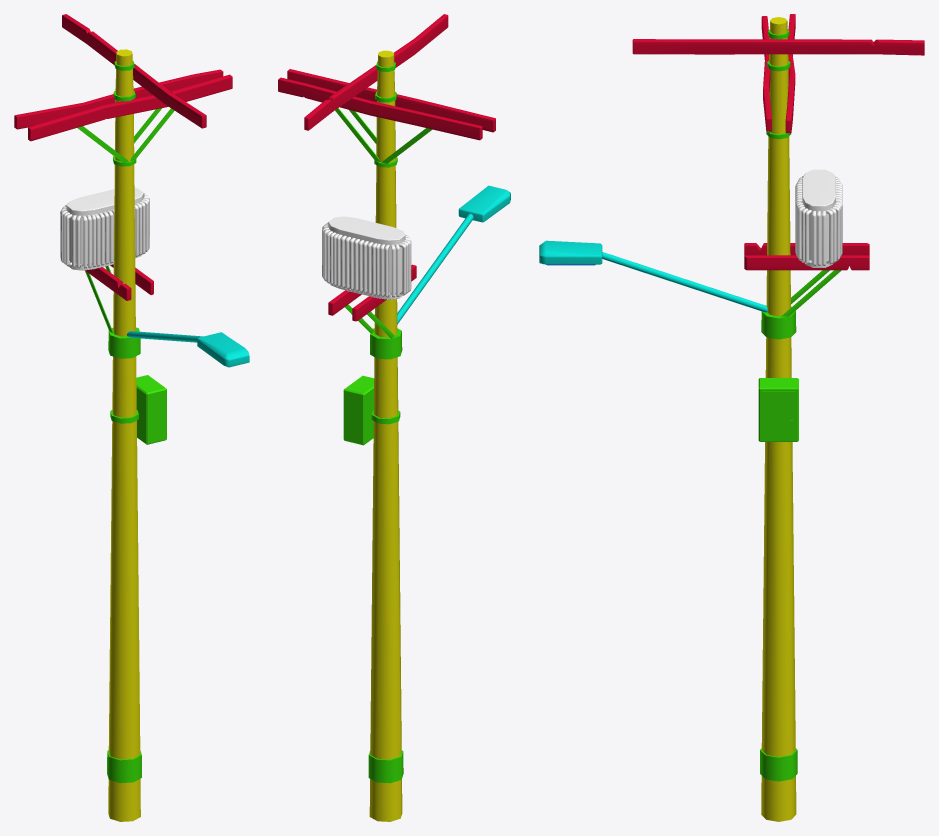
File: poste.fbx
3 views of the same model, side by side, from view 1: azimuth 30°, elevation 25°; view 2: azimuth 150°, elevation 25°; view 3: azimuth 270°, elevation 25° (orthographic). The views are drawn at different scales.
Parts seen in each view (by area): view 1: Cube.007; view 2: Cube.007; view 3: Cube.007.
Boxes of the visible parts, left/top/right/bottom form: Cube.007: left=14, top=14, right=249, bottom=821; Cube.007: left=278, top=14, right=510, bottom=821; Cube.007: left=539, top=14, right=924, bottom=821.
Bounding box in the file's own units: 337 × 1200 × 528.
